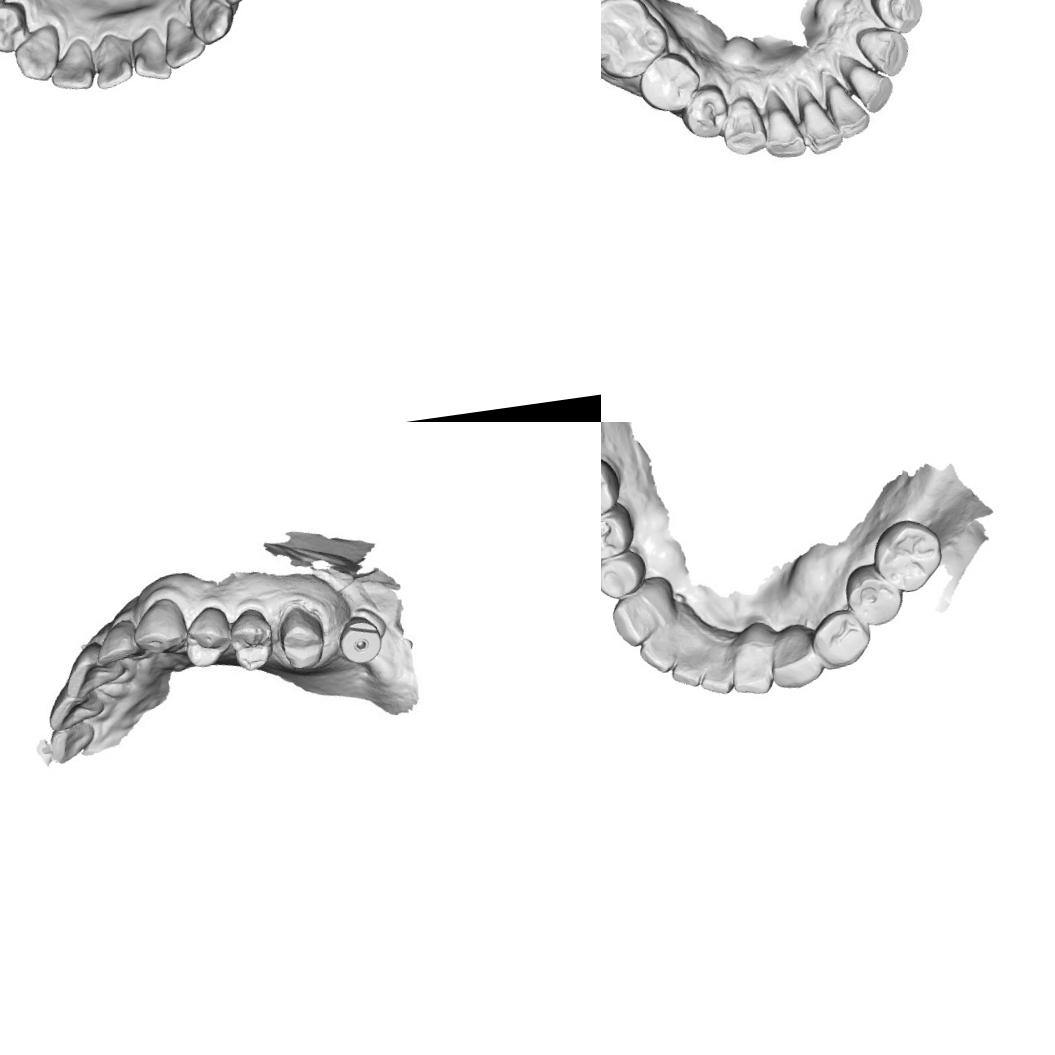canine: (766, 620, 825, 691), (128, 594, 190, 658), (10, 22, 66, 86), (854, 22, 912, 81), (608, 590, 664, 651), (718, 93, 769, 158), (186, 0, 238, 46)
crown: (270, 597, 330, 676)
implant: (334, 612, 385, 667)
incisor: (60, 638, 128, 700), (758, 86, 808, 161), (797, 87, 846, 157), (824, 77, 872, 141), (46, 35, 98, 94), (44, 684, 107, 732), (158, 12, 208, 70), (92, 616, 147, 666), (128, 26, 174, 84), (89, 32, 135, 90), (848, 61, 896, 116), (728, 644, 776, 698), (636, 628, 682, 677), (696, 657, 736, 698), (667, 649, 706, 690)
molar: (868, 514, 948, 598), (601, 0, 672, 84), (601, 451, 624, 523)
premolar: (634, 48, 704, 115), (842, 560, 907, 631), (806, 605, 874, 671), (180, 602, 236, 670), (225, 605, 278, 674), (676, 82, 731, 142), (601, 548, 650, 602), (601, 503, 638, 565), (868, 0, 926, 37), (0, 0, 31, 56)
